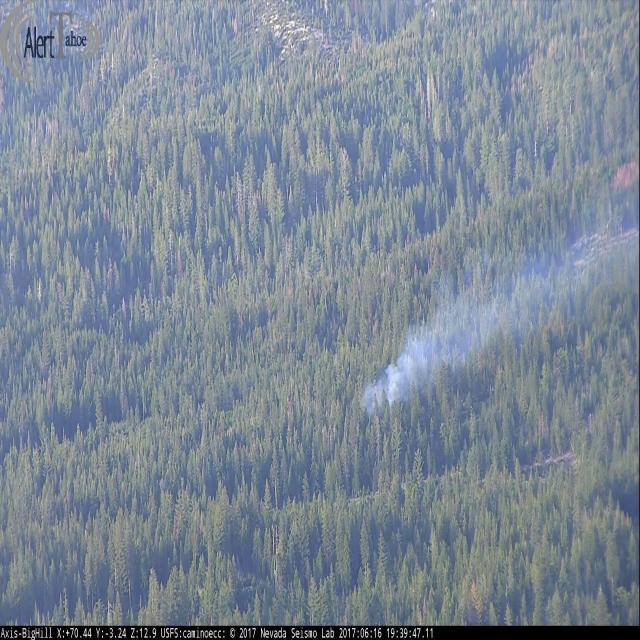smoke: (359, 201, 640, 419)
